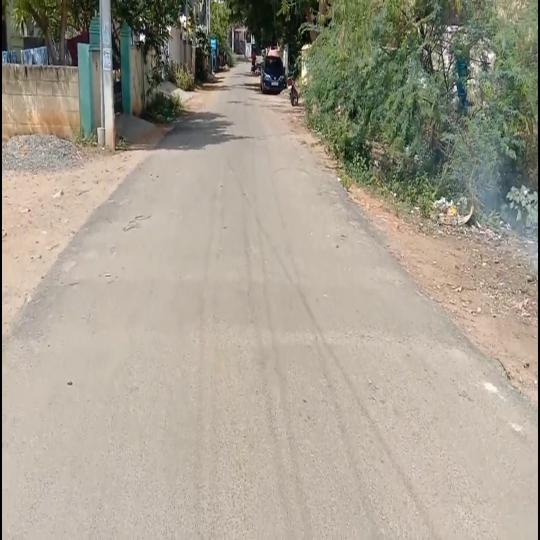Speed Bump: (13, 275, 456, 347)
